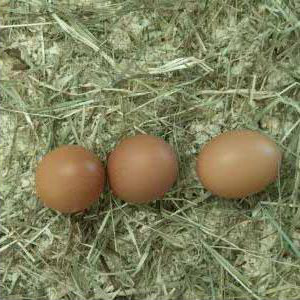egg: (196, 130, 283, 200), (107, 134, 179, 205), (36, 146, 107, 213)
